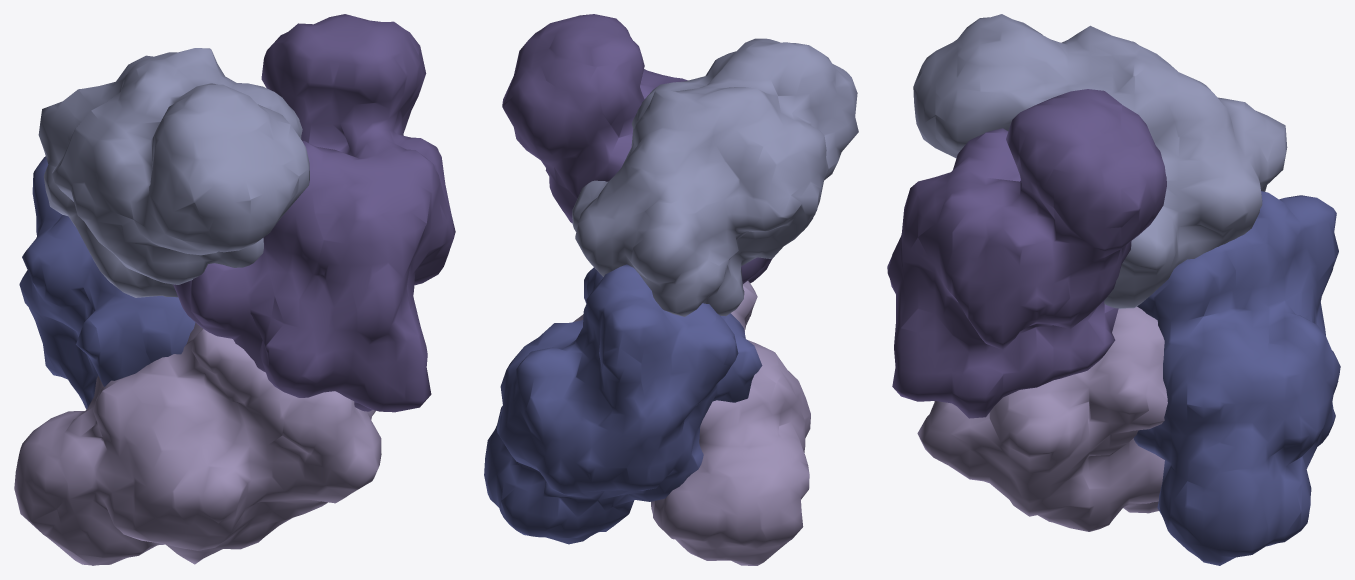
Rendered from tetramer1A49.fbx.
3 views of the same model, side by side, from view 1: azimuth 30°, elevation 25°; view 2: azimuth 150°, elevation 25°; view 3: azimuth 270°, elevation 25° (orthographic). The views are drawn at different scales.
Parts seen in each view (by area): view 1: CoarseMS_1a49bioSimp, CoarseMS_1a49bioSimp_Selection0, CoarseMS_1a49bioSimp_Selection3, CoarseMS_1a49bioSimp_Selection2; view 2: CoarseMS_1a49bioSimp_Selection3, CoarseMS_1a49bioSimp_Selection2, CoarseMS_1a49bioSimp_Selection0, CoarseMS_1a49bioSimp; view 3: CoarseMS_1a49bioSimp, CoarseMS_1a49bioSimp_Selection2, CoarseMS_1a49bioSimp_Selection3, CoarseMS_1a49bioSimp_Selection0.
Part boxes in pixels (x1=…): CoarseMS_1a49bioSimp: x1=173, y1=14, x2=455, y2=412; CoarseMS_1a49bioSimp_Selection0: x1=14, y1=322, x2=381, y2=565; CoarseMS_1a49bioSimp_Selection3: x1=38, y1=48, x2=309, y2=297; CoarseMS_1a49bioSimp_Selection2: x1=19, y1=156, x2=195, y2=409; CoarseMS_1a49bioSimp_Selection3: x1=572, y1=38, x2=858, y2=316; CoarseMS_1a49bioSimp_Selection2: x1=484, y1=264, x2=762, y2=544; CoarseMS_1a49bioSimp_Selection0: x1=573, y1=280, x2=810, y2=565; CoarseMS_1a49bioSimp: x1=502, y1=14, x2=772, y2=283; CoarseMS_1a49bioSimp: x1=887, y1=89, x2=1166, y2=418; CoarseMS_1a49bioSimp_Selection2: x1=1133, y1=191, x2=1340, y2=565; CoarseMS_1a49bioSimp_Selection3: x1=913, y1=14, x2=1287, y2=308; CoarseMS_1a49bioSimp_Selection0: x1=917, y1=306, x2=1167, y2=531.
Size of the model in its own units: 89.14 by 126 by 104.
